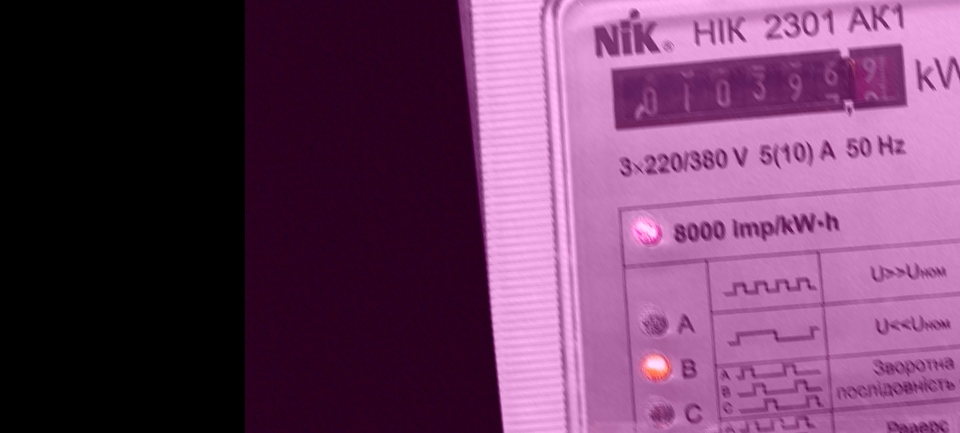0: (708, 73, 734, 108), (636, 81, 659, 116)
1: (676, 77, 693, 112)
3: (747, 67, 768, 102)
6: (817, 56, 841, 87)
9: (781, 68, 804, 103), (855, 53, 879, 85)
screen: (592, 23, 919, 150)
